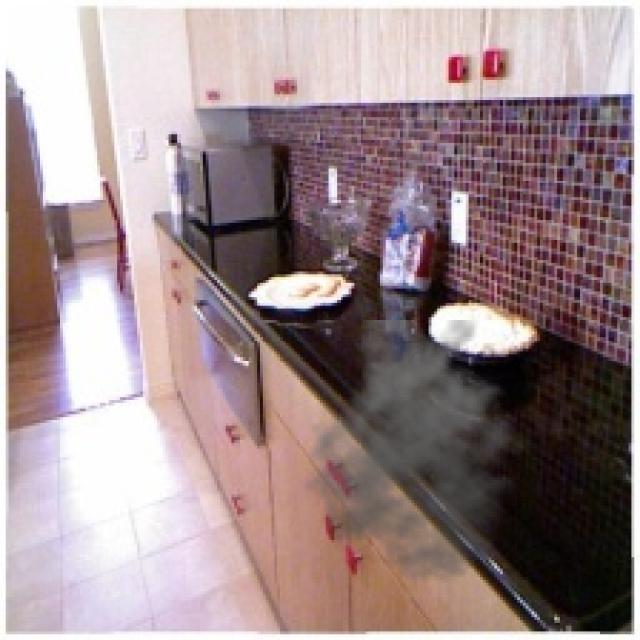Smoke: (300, 320, 543, 583)
